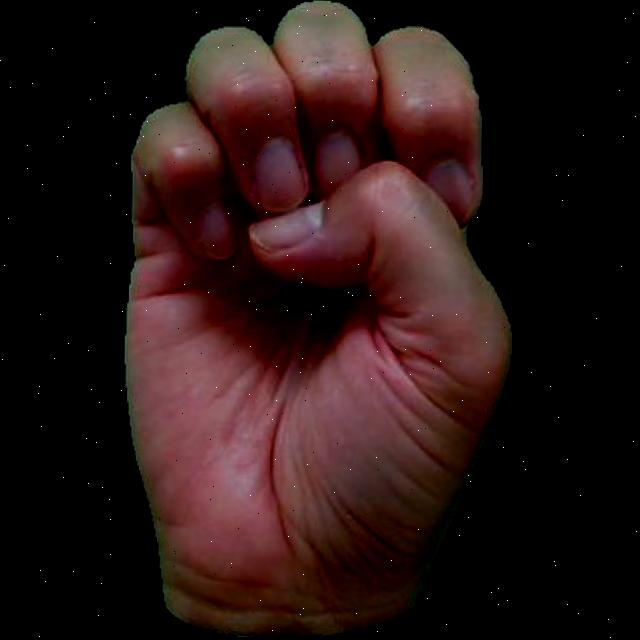e: (93, 0, 527, 640)
